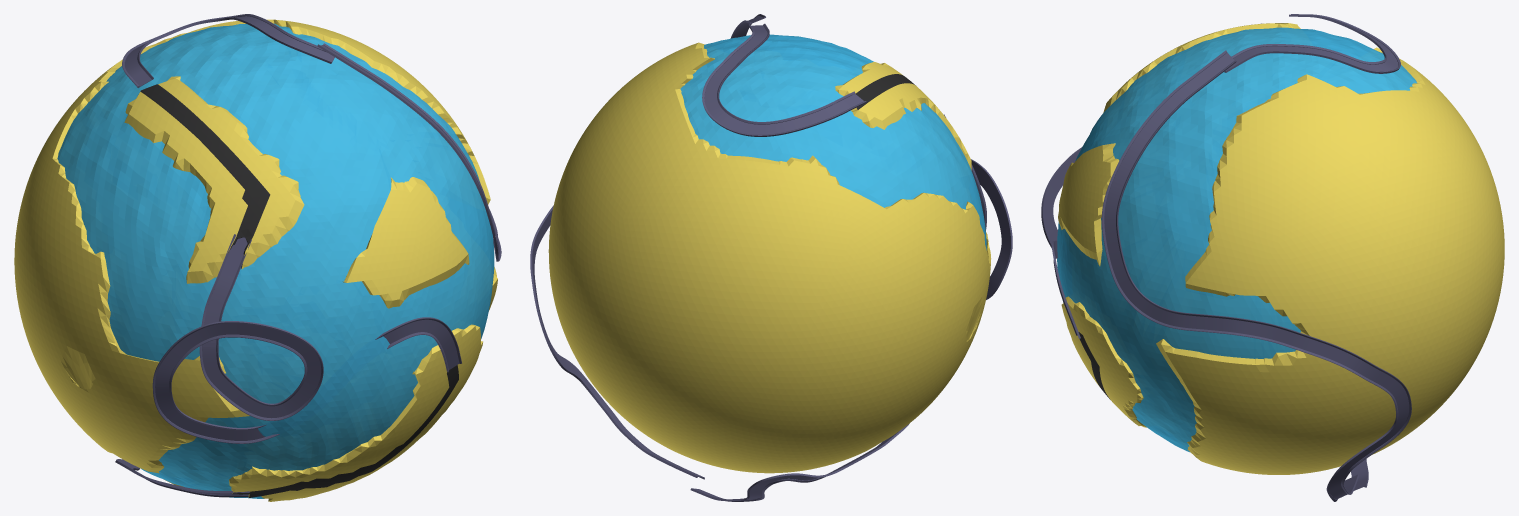
The model's file is OceanPlanetTracked.fbx.
3 views of the same model, side by side, from view 1: azimuth 30°, elevation 25°; view 2: azimuth 150°, elevation 25°; view 3: azimuth 270°, elevation 25° (orthographic). The views are drawn at different scales.
Visible parts, largest first — view 1: Wasser, WasserFlipped, Landnegative, Tracksegment02, Tracksegment01, Tracksegment04, Tracksegment03; view 2: Landnegative, Wasser, WasserFlipped, Tracksegment01, Tracksegment04, Tracksegment02, Tracksegment03; view 3: Landnegative, Wasser, WasserFlipped, Tracksegment04, Tracksegment01, Tracksegment02.
Part boxes in pixels (x1=…): Wasser: x1=57, y1=23, x2=494, y2=498; WasserFlipped: x1=58, y1=24, x2=494, y2=498; Landnegative: x1=14, y1=19, x2=497, y2=501; Tracksegment02: x1=152, y1=234, x2=461, y2=443; Tracksegment01: x1=122, y1=14, x2=334, y2=87; Tracksegment04: x1=317, y1=43, x2=501, y2=261; Tracksegment03: x1=115, y1=459, x2=257, y2=497; Landnegative: x1=548, y1=42, x2=991, y2=473; Wasser: x1=680, y1=34, x2=986, y2=250; WasserFlipped: x1=681, y1=35, x2=986, y2=248; Tracksegment01: x1=702, y1=23, x2=866, y2=136; Tracksegment04: x1=530, y1=14, x2=765, y2=479; Tracksegment02: x1=944, y1=114, x2=1012, y2=299; Tracksegment03: x1=690, y1=423, x2=909, y2=501; Landnegative: x1=1058, y1=23, x2=1504, y2=474; Wasser: x1=1057, y1=27, x2=1416, y2=452; WasserFlipped: x1=1057, y1=27, x2=1415, y2=451; Tracksegment04: x1=1101, y1=50, x2=1411, y2=501; Tracksegment01: x1=1224, y1=14, x2=1400, y2=73; Tracksegment02: x1=1041, y1=147, x2=1081, y2=338.
Bounding box in the file's own units: 636 × 671 × 636.
